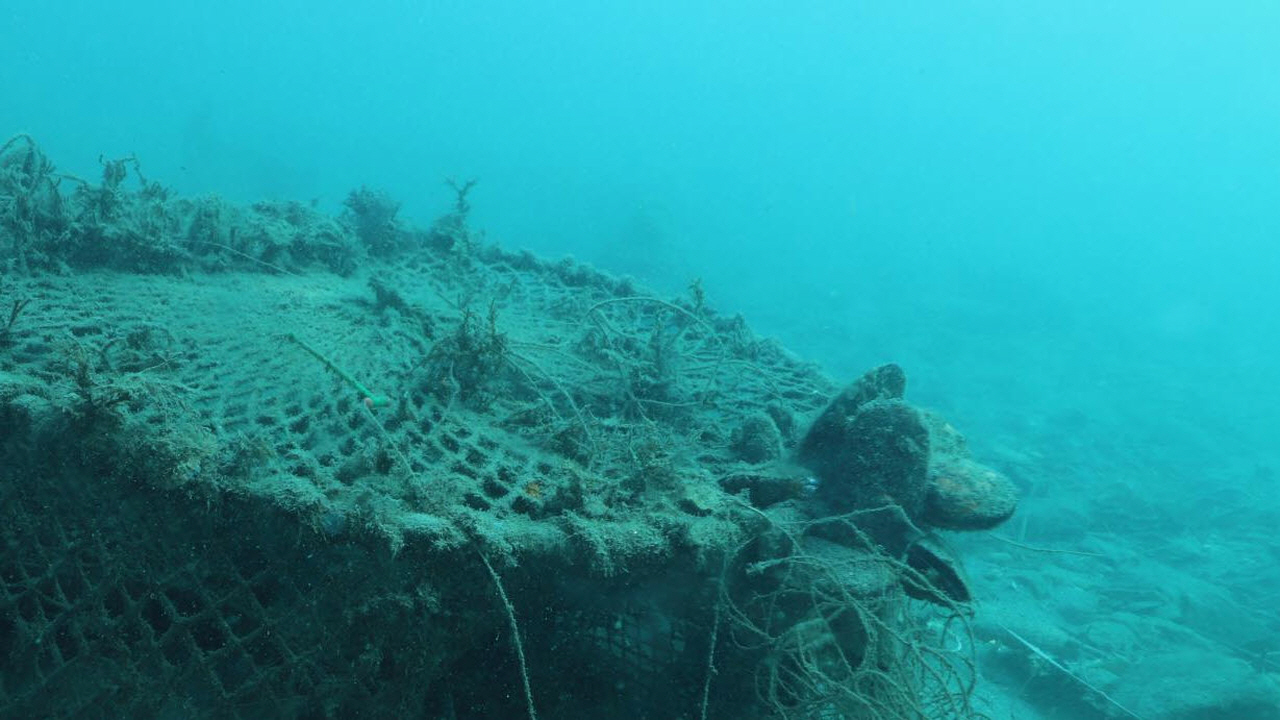circular fish trap: (0, 204, 837, 720)
